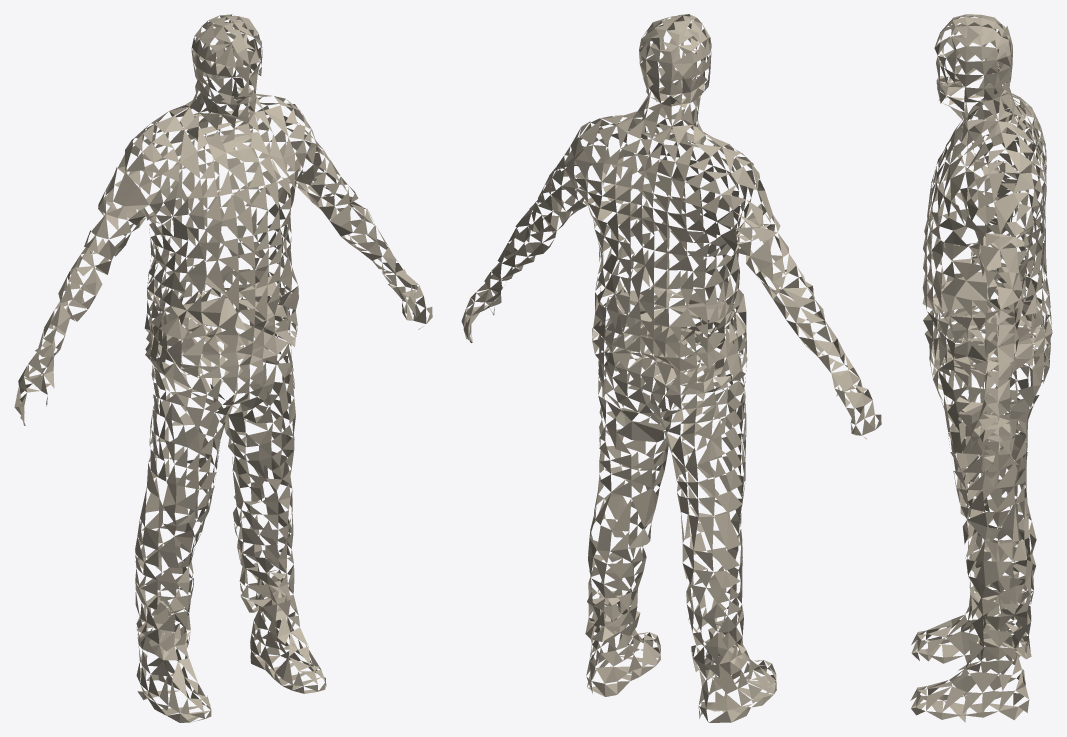
The model's file is trevor.glb.
3 renders of one model, left to right at view 1: azimuth 30°, elevation 25°; view 2: azimuth 150°, elevation 25°; view 3: azimuth 270°, elevation 25°, orthographic.
Parts seen in each view (by area): view 1: world; view 2: world; view 3: world.
Boxes of the visible parts, bbox=[...] form: world: bbox=[14, 14, 432, 722]; world: bbox=[461, 14, 881, 722]; world: bbox=[910, 14, 1052, 722].
Size of the model in its own units: 1.16 by 1.8 by 0.3469.
